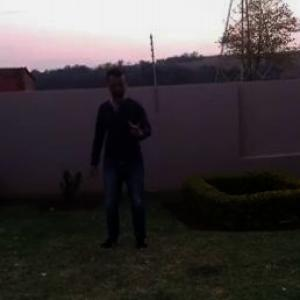takeoff-hand: (121, 110, 155, 146)
